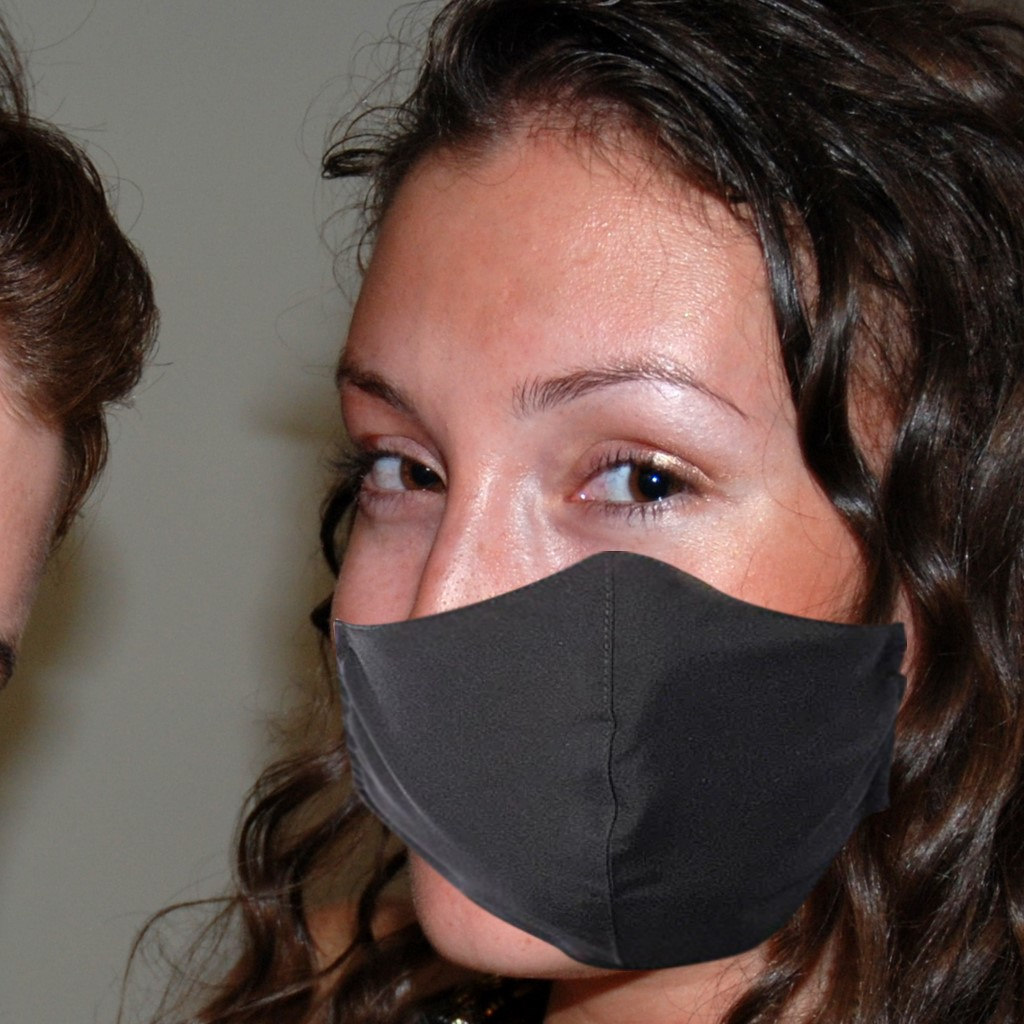con_mascara: (351, 124, 887, 971)
